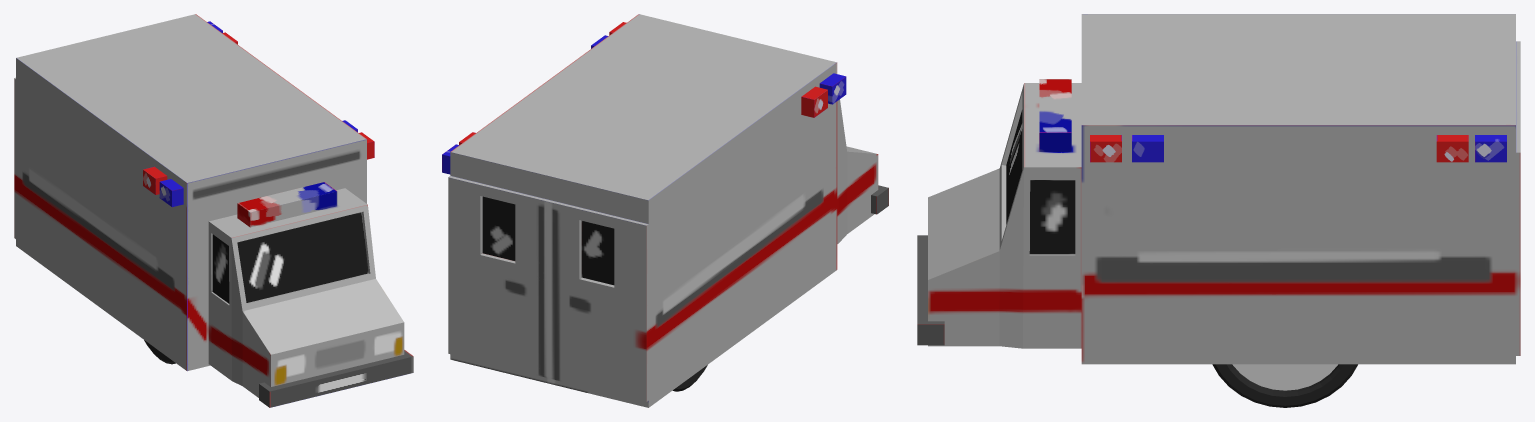
The model's file is ambulance.glb.
The picture shows the model from 3 angles, left to right: view 1: azimuth 30°, elevation 25°; view 2: azimuth 150°, elevation 25°; view 3: azimuth 270°, elevation 25°; orthographic projection. The views are drawn at different scales.
Parts seen in each view (by area): view 1: ambulance, Cube.021, Cube.007, Cube.015, Cube.016; view 2: ambulance, Cube.016, Cube.015, Cube.021; view 3: ambulance, wheel.001, Cube.007, Cube.021, Cube.013, Cube.008, Cube.012, Cube.014.
Boxes of the visible parts, x1,y1,x2,y2 form: ambulance: [14, 14, 404, 397]; Cube.021: [259, 350, 413, 407]; Cube.007: [237, 182, 337, 227]; Cube.015: [159, 179, 183, 207]; Cube.016: [143, 166, 167, 194]; ambulance: [448, 14, 878, 407]; Cube.016: [801, 86, 827, 117]; Cube.015: [819, 73, 846, 104]; Cube.021: [871, 185, 888, 214]; ambulance: [928, 14, 1520, 364]; wheel.001: [1212, 364, 1357, 407]; Cube.007: [1039, 79, 1071, 151]; Cube.021: [917, 235, 944, 345]; Cube.013: [1436, 135, 1468, 162]; Cube.008: [1090, 135, 1121, 162]; Cube.012: [1132, 135, 1163, 162]; Cube.014: [1475, 135, 1506, 162].
Bounding box in the file's own units: 2.25 × 2.64 × 4.58.
Materials: 3 (1 with a texture image).
